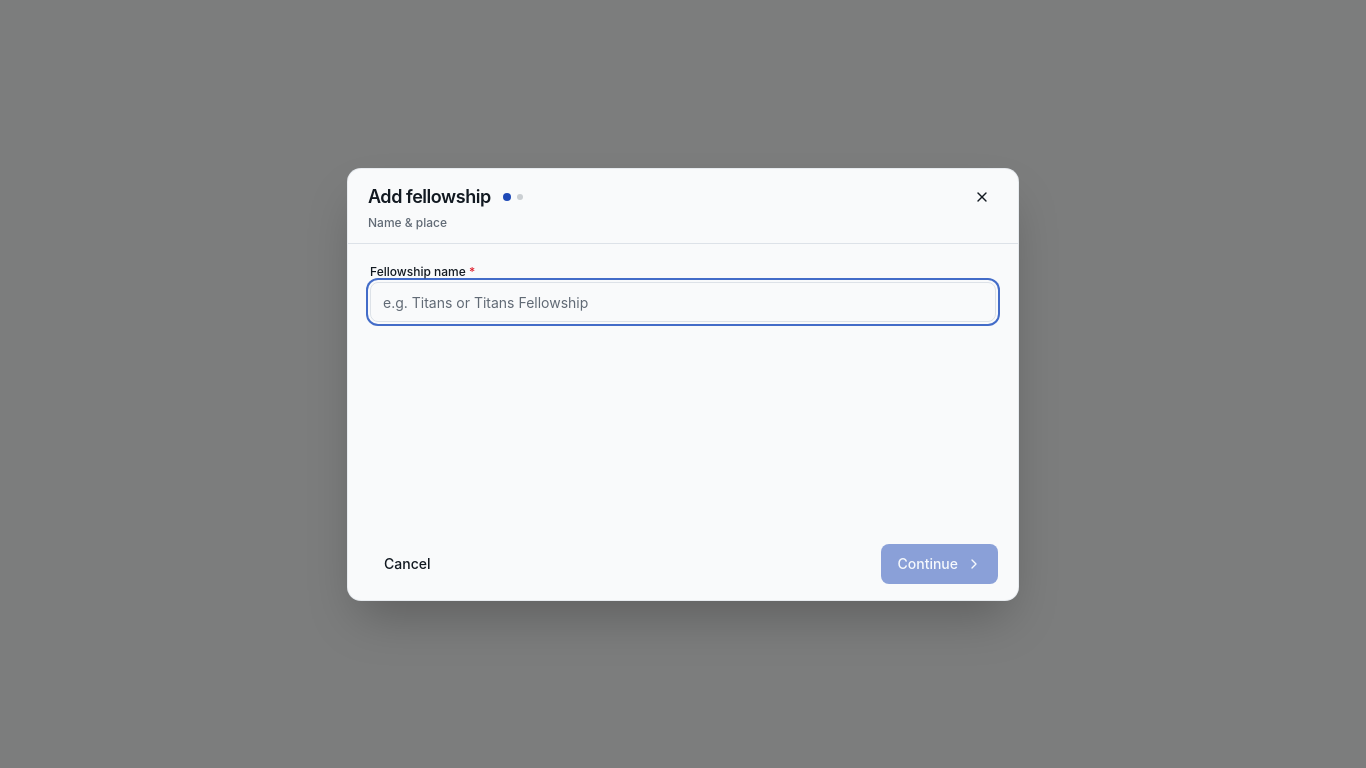
Scenario: UnitCreateWizard › defaults the leader phone dial code to the church country
Type "Zion" into the field labelled "Fellowship name *" at (683, 302), box [370, 282, 996, 322]
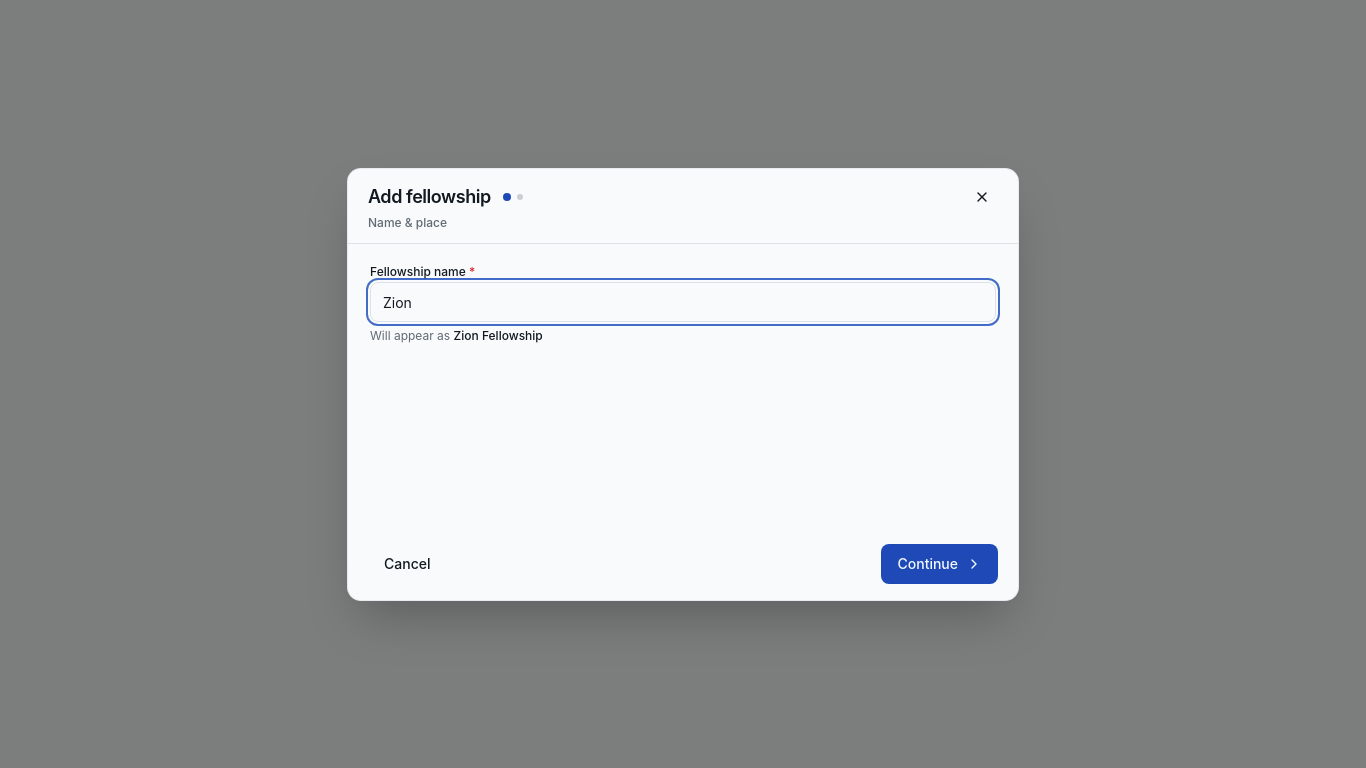
Click the button "Continue" at (940, 564), box [882, 544, 998, 584]
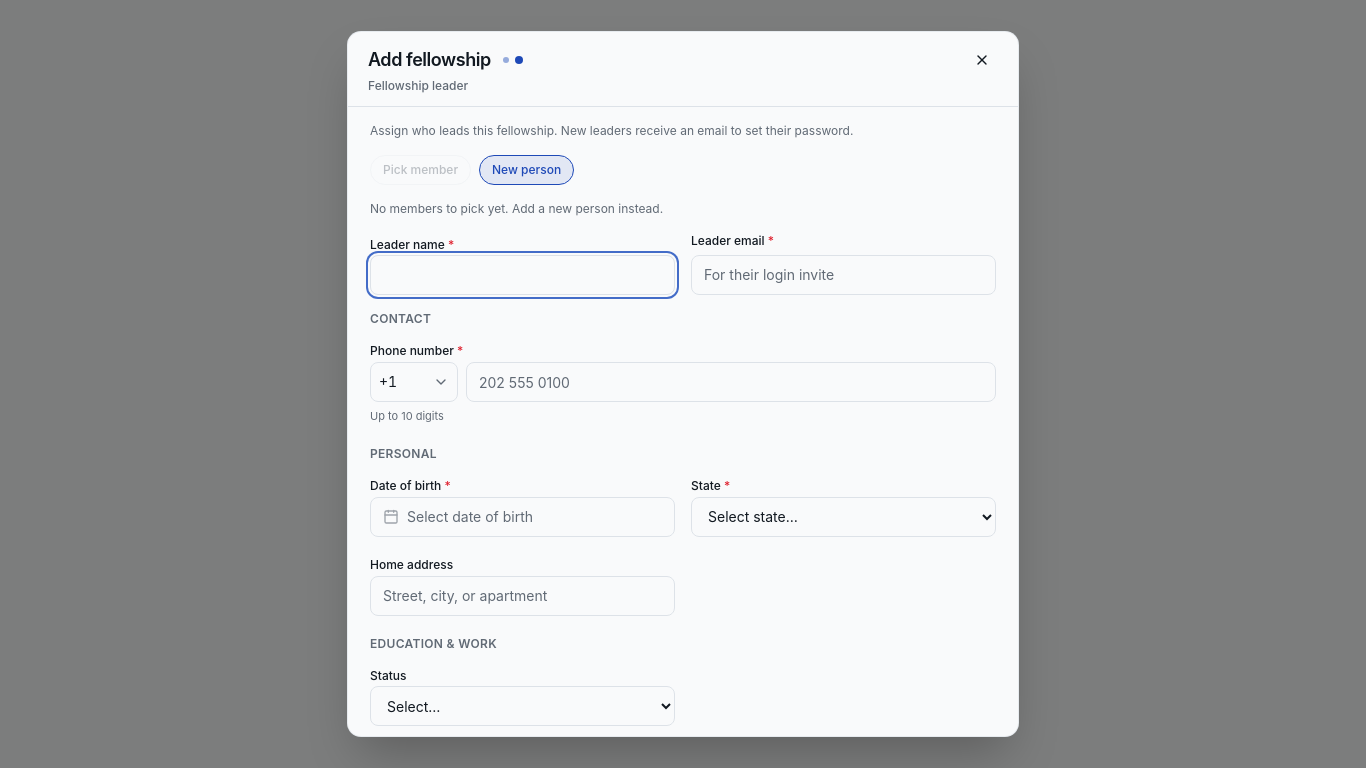
Expected: the dropdown named "Country code" reads "+1", [370, 362, 458, 402]
Expected: the text "Fellowship leader" is shown, [368, 78, 468, 93]
Expected: the navigation bar named "Step 2 of 2" is shown, [503, 56, 523, 64]
